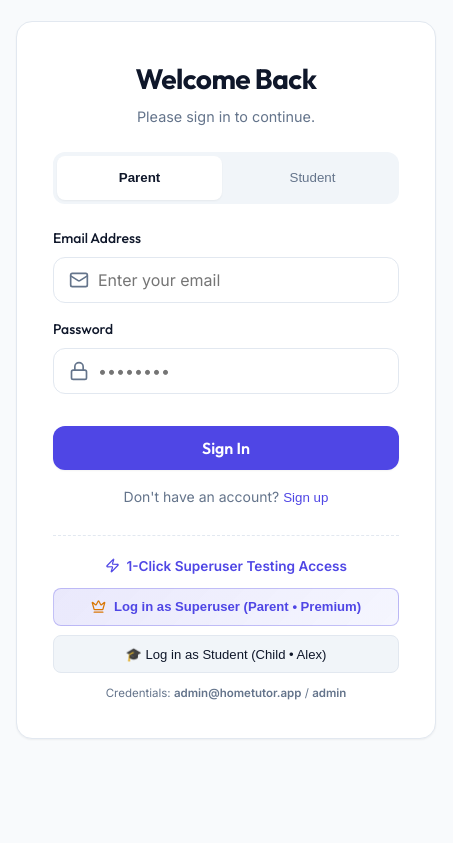
Login page – sign up mode › switches to sign-up mode when "Sign up" is clicked
The width and height of the screenshot is (453, 843).
Click the button "Sign up" at (306, 497), box [283,490,328,505]
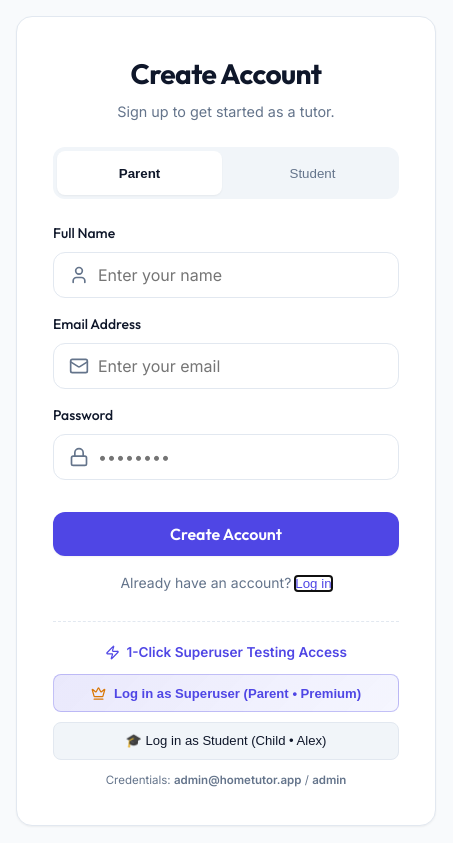
Check: the heading "Create Account" is shown, box [131,56,322,91]
